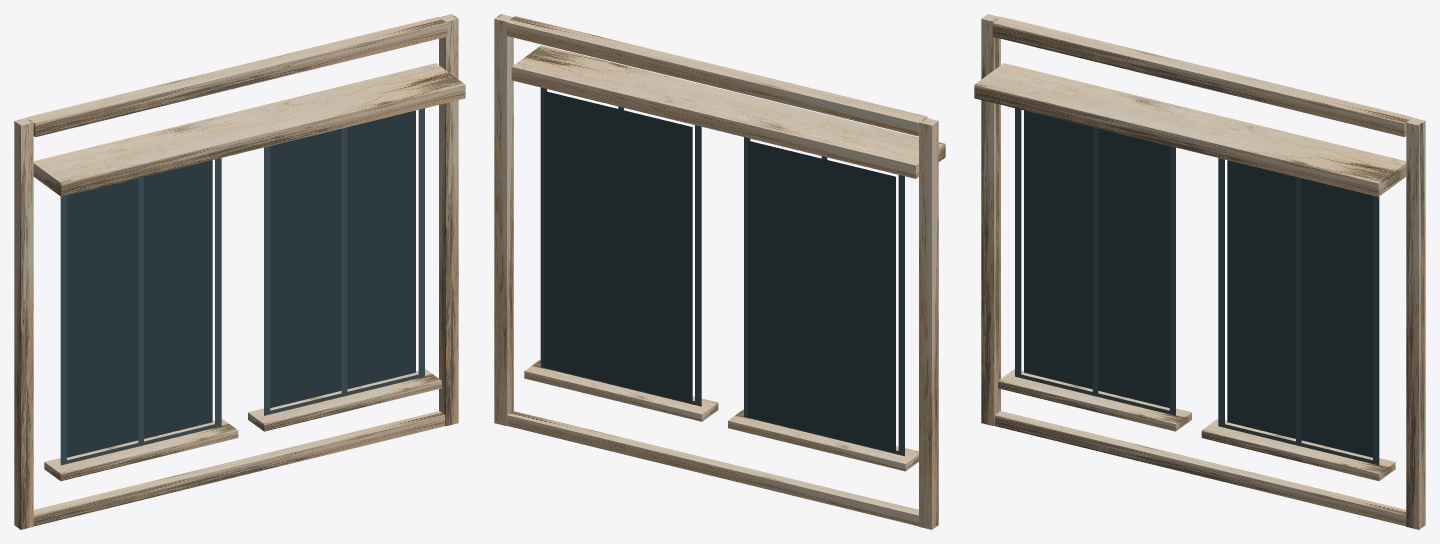
Rendered from facade_aged_office_ground.glb.
3 views of the same model, side by side, from view 1: azimuth 30°, elevation 25°; view 2: azimuth 150°, elevation 25°; view 3: azimuth 330°, elevation 25° (orthographic).
Parts seen in each view (by area): view 1: lod1_facade_aged_office_ground__VVK_dark_glass, lod1_facade_aged_office_ground__VVK_concrete_CC0, lod1_facade_aged_office_ground__VVK_painted_steel; view 2: lod1_facade_aged_office_ground__VVK_dark_glass, lod1_facade_aged_office_ground__VVK_concrete_CC0, lod1_facade_aged_office_ground__VVK_painted_steel; view 3: lod1_facade_aged_office_ground__VVK_dark_glass, lod1_facade_aged_office_ground__VVK_concrete_CC0, lod1_facade_aged_office_ground__VVK_painted_steel.
Part boxes in pixels (box(x1,y1,x2,y2)): lod1_facade_aged_office_ground__VVK_dark_glass: box(67, 110, 415, 457); lod1_facade_aged_office_ground__VVK_concrete_CC0: box(14, 14, 465, 529); lod1_facade_aged_office_ground__VVK_painted_steel: box(60, 108, 424, 465); lod1_facade_aged_office_ground__VVK_dark_glass: box(544, 91, 895, 452); lod1_facade_aged_office_ground__VVK_concrete_CC0: box(494, 14, 945, 529); lod1_facade_aged_office_ground__VVK_painted_steel: box(540, 87, 904, 456); lod1_facade_aged_office_ground__VVK_dark_glass: box(1024, 110, 1372, 457); lod1_facade_aged_office_ground__VVK_concrete_CC0: box(974, 14, 1425, 529); lod1_facade_aged_office_ground__VVK_painted_steel: box(1015, 108, 1379, 465).
Bounding box in the file's own units: 3.4 × 3 × 0.418.
Materials: 3 (1 with a texture image).
